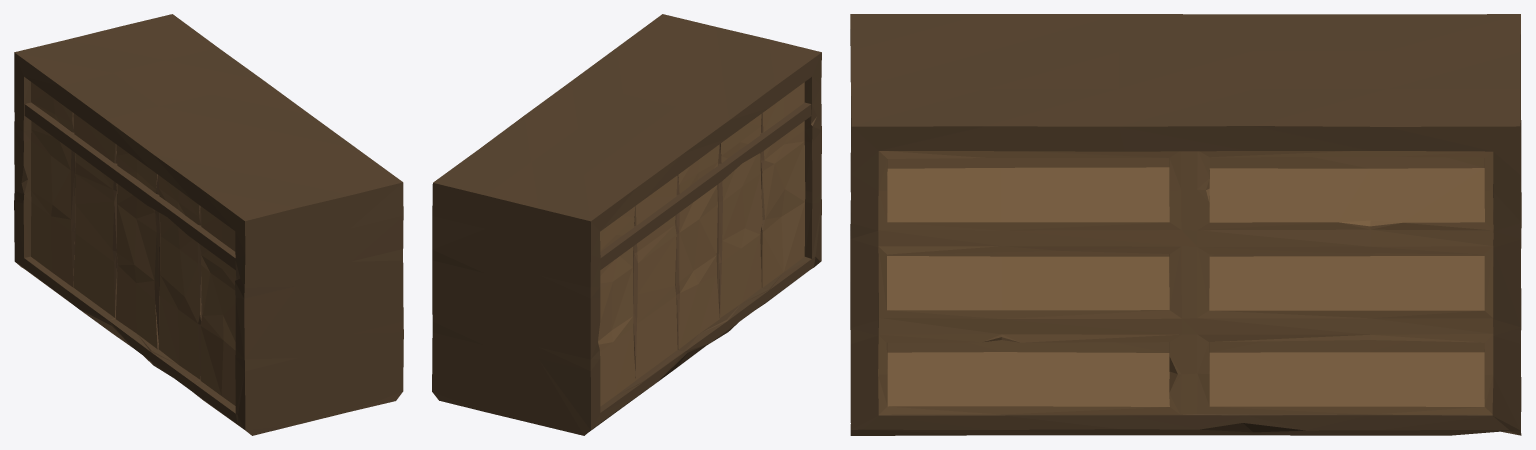
Rendered from AWS_Reception_Shelf_001.fbx.
3 renders of one model, left to right at view 1: azimuth 30°, elevation 25°; view 2: azimuth 150°, elevation 25°; view 3: azimuth 270°, elevation 25°, orthographic. The views are drawn at different scales.
Parts seen in each view (by area): view 1: AWS_Reception_Shelf_001; view 2: AWS_Reception_Shelf_001; view 3: AWS_Reception_Shelf_001.
Part boxes in pixels (<box>): AWS_Reception_Shelf_001: <box>14,14,403,435</box>; AWS_Reception_Shelf_001: <box>432,14,821,435</box>; AWS_Reception_Shelf_001: <box>850,14,1521,435</box>.
Bounding box in the file's own units: 79.85 × 104 × 201.
